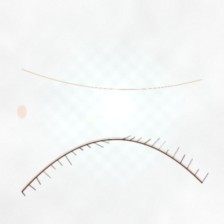corneal_ulcer: (71, 98, 130, 145)
